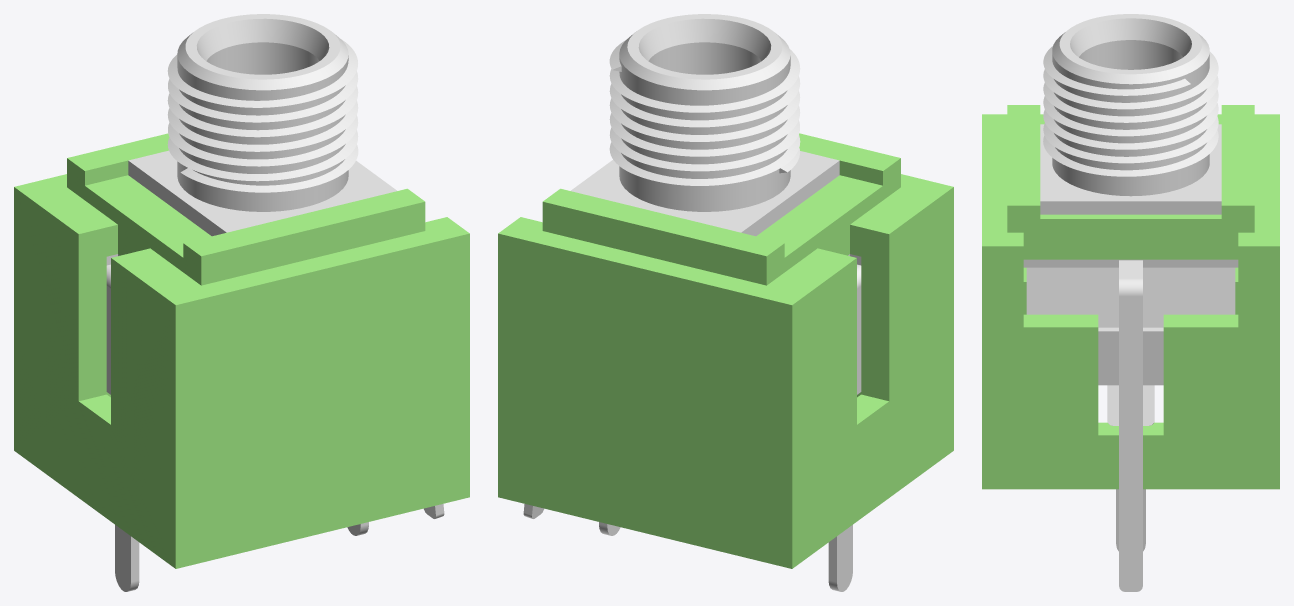
File: jack_socket_PJ366ST_green stereo_3.5mm.glb
3 views of the same model, side by side, from view 1: azimuth 30°, elevation 25°; view 2: azimuth 150°, elevation 25°; view 3: azimuth 270°, elevation 25° (orthographic). The views are drawn at different scales.
Visible parts, largest first — view 1: Solid1, Solid2, Solid4; view 2: Solid1, Solid2, Solid4; view 3: Solid1, Solid2, Solid4.
Boxes of the visible parts, bbox=[...] form: Solid1: bbox=[14, 133, 469, 568]; Solid2: bbox=[128, 14, 396, 236]; Solid4: bbox=[106, 254, 444, 591]; Solid1: bbox=[498, 133, 953, 568]; Solid2: bbox=[571, 14, 839, 236]; Solid4: bbox=[523, 254, 861, 591]; Solid1: bbox=[982, 105, 1279, 489]; Solid2: bbox=[1040, 14, 1221, 214]; Solid4: bbox=[1023, 259, 1238, 591].
Size of the model in its own units: 0.0123 by 0.0174 by 0.01.
